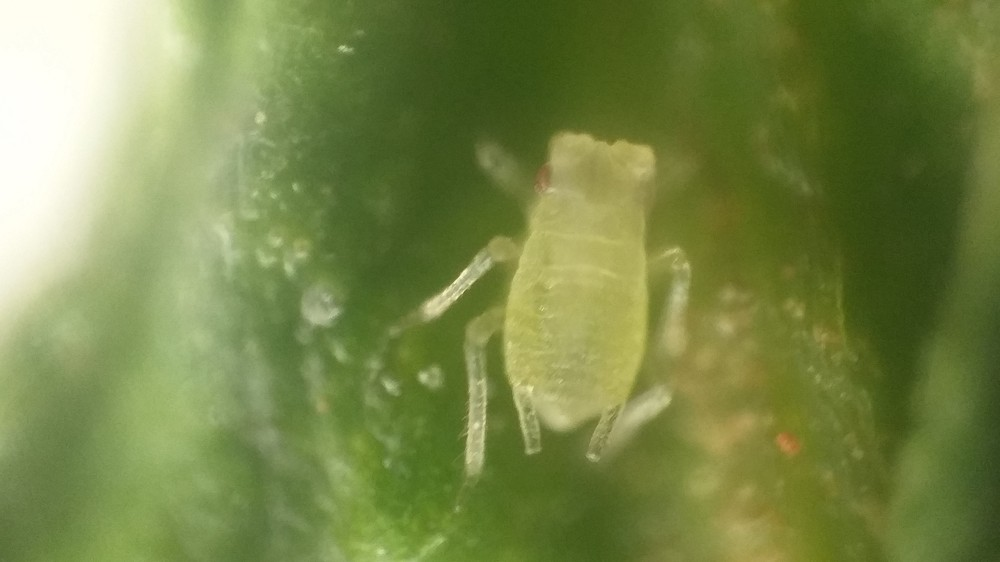Pulgon: (364, 95, 762, 511)
